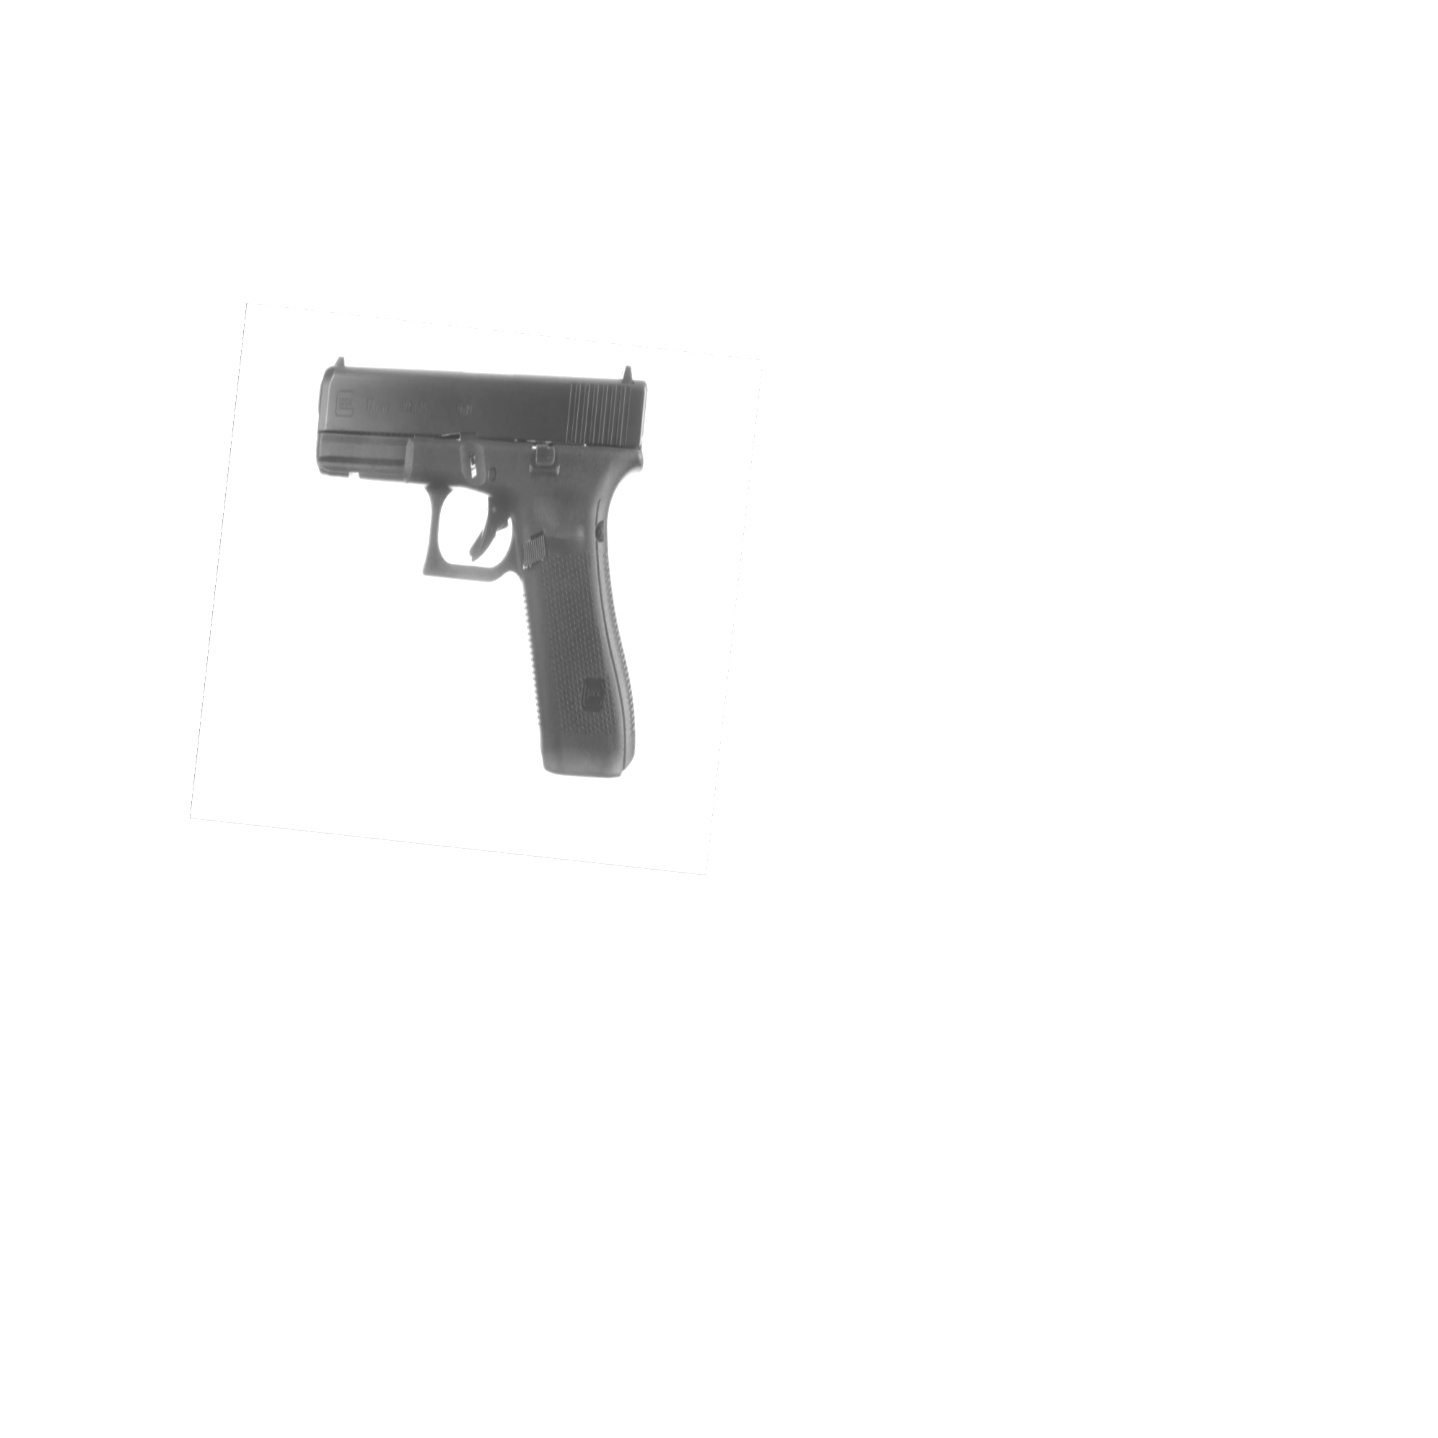gun: (317, 358, 657, 777)
